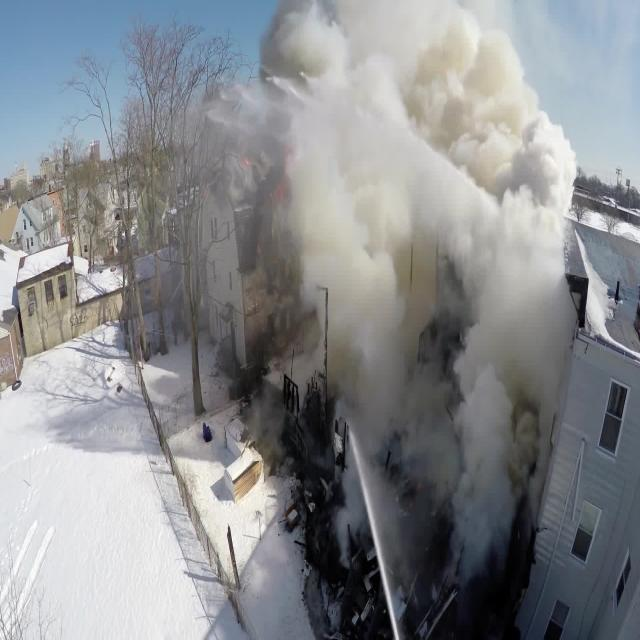smoke: (292, 41, 551, 547)
